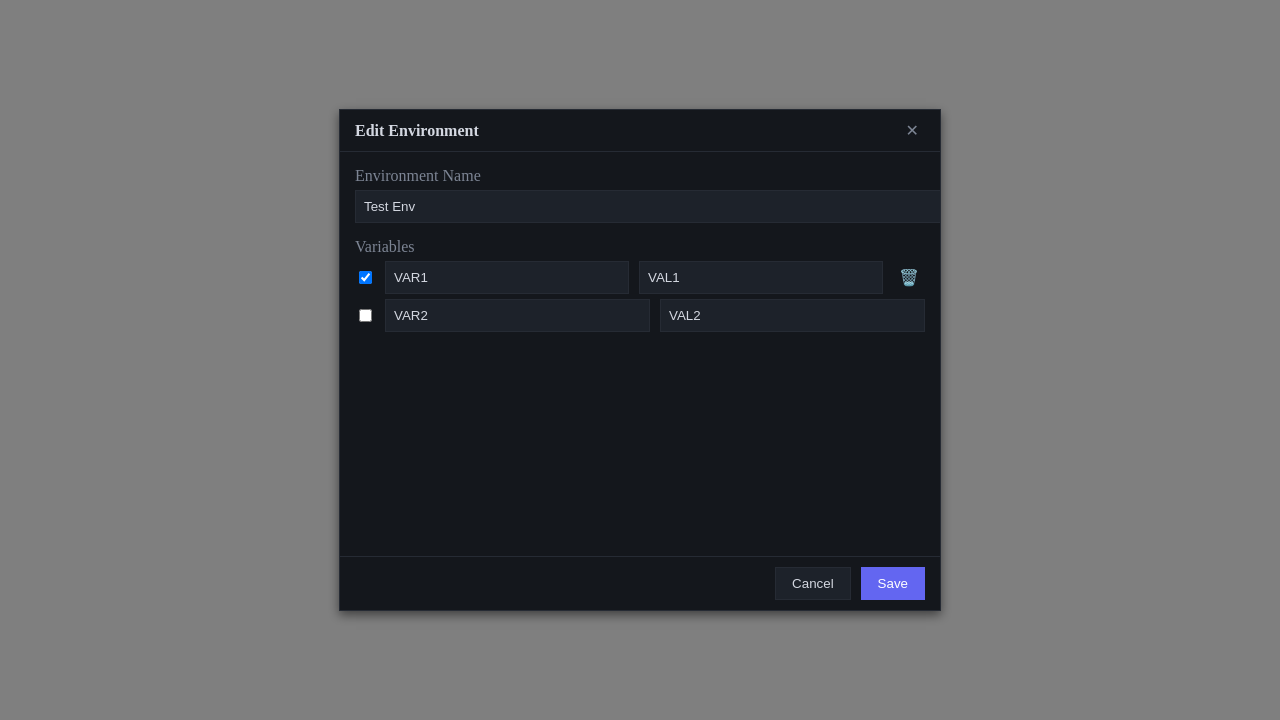
Test case: EnvironmentModal › removes a variable
Click the button "🗑️" at (909, 278), box [893, 267, 925, 288]
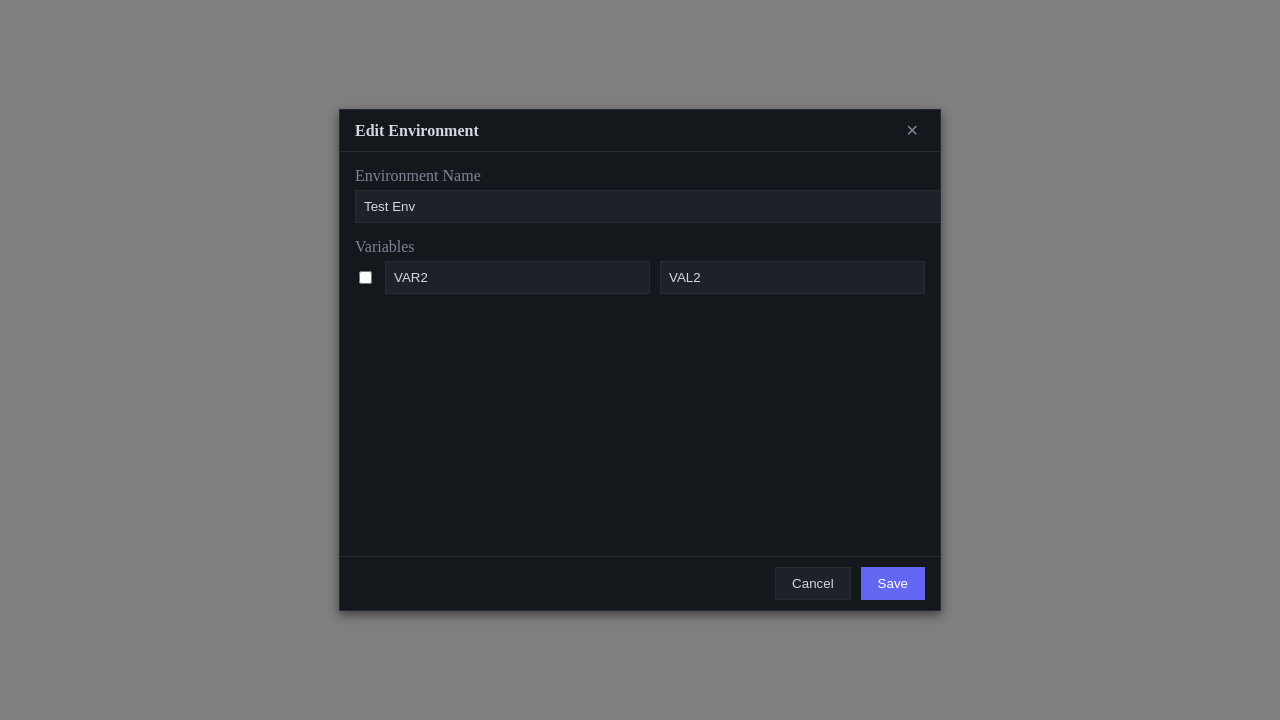
Check: the field showing "VAR1" is not shown
Check: the 2nd field showing "VAR2" is shown, box [385, 261, 650, 294]
